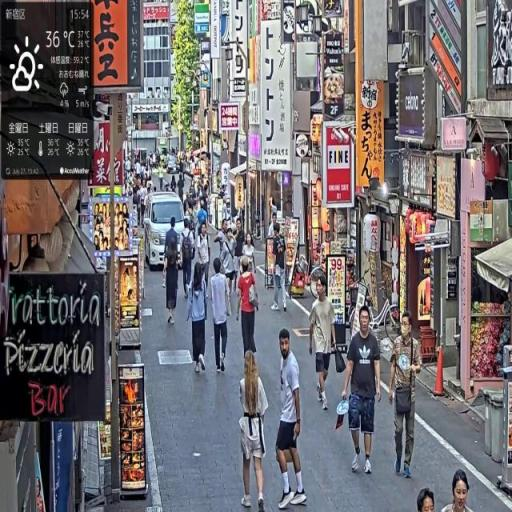person: (341, 306, 384, 478), (276, 326, 309, 508), (389, 311, 424, 481), (237, 351, 269, 512), (309, 273, 339, 416), (209, 256, 235, 379), (237, 253, 261, 369), (187, 262, 209, 375), (163, 217, 182, 326), (442, 470, 474, 512), (273, 226, 288, 315), (181, 220, 196, 300)
